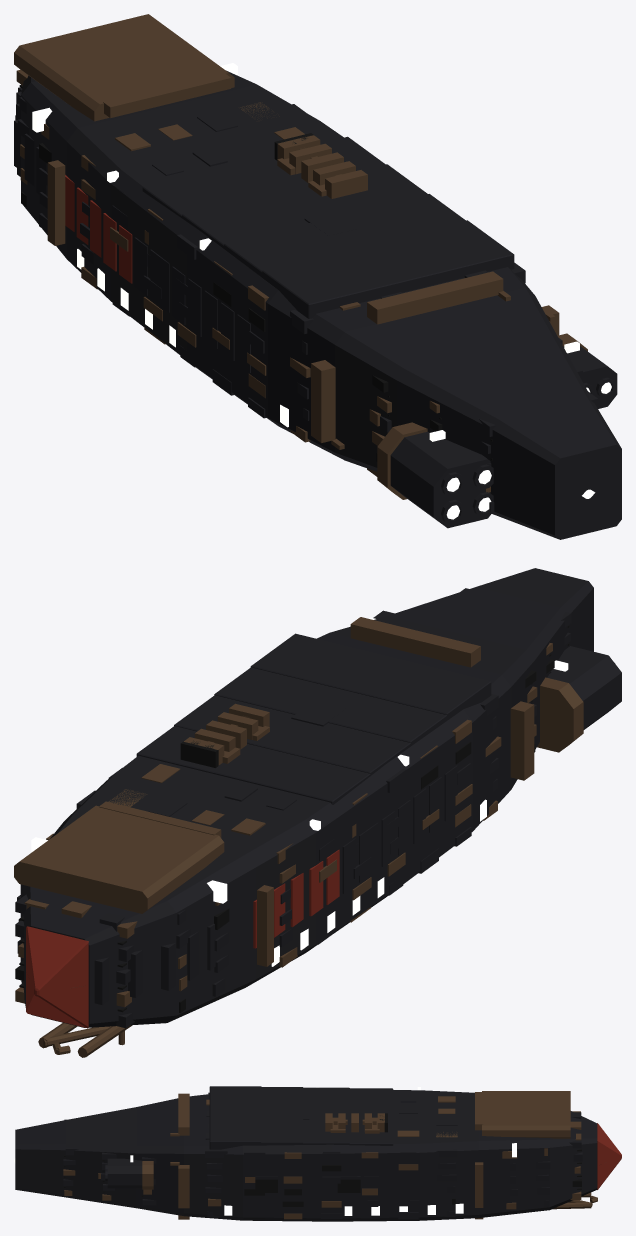
3 renders of one model, top to bottom at view 1: azimuth 30°, elevation 25°; view 2: azimuth 150°, elevation 25°; view 3: azimuth 270°, elevation 25°, orthographic. The views are drawn at different scales.
Parts seen in each view (by area): view 1: RIMWARD_HULL, RIMWARD_EMISSIVE; view 2: RIMWARD_HULL, RIMWARD_EMISSIVE; view 3: RIMWARD_HULL, RIMWARD_EMISSIVE.
Part boxes in pixels (x1,y1,x2,y2): RIMWARD_HULL: [14, 14, 621, 539]; RIMWARD_EMISSIVE: [32, 63, 611, 519]; RIMWARD_HULL: [14, 568, 621, 1057]; RIMWARD_EMISSIVE: [31, 617, 568, 966]; RIMWARD_HULL: [15, 1086, 621, 1221]; RIMWARD_EMISSIVE: [130, 1087, 516, 1215].
Size of the model in its own units: 1.85 by 1.42 by 7.42.
